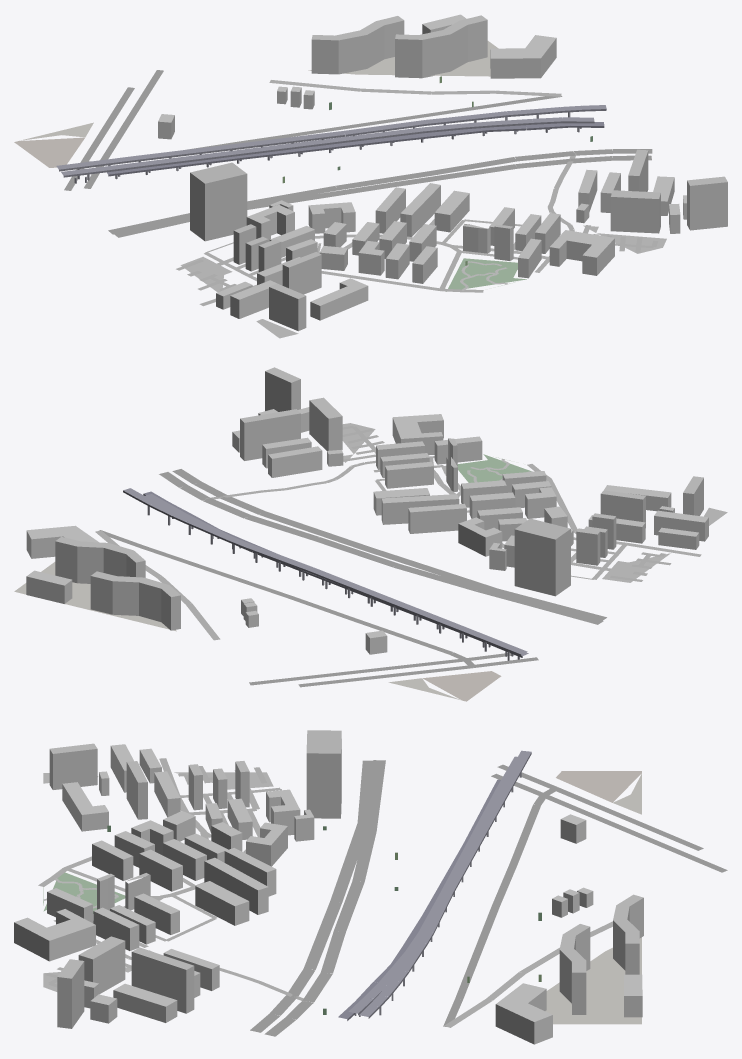
The picture shows the model from 3 angles, top to bottom: view 1: azimuth 30°, elevation 25°; view 2: azimuth 150°, elevation 25°; view 3: azimuth 270°, elevation 25°; orthographic projection. The views are drawn at different scales.
Bounding box in the file's own units: 566 × 64.69 × 596.
